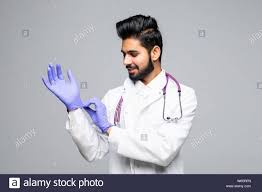Indian_Male: (121, 28, 153, 77)
